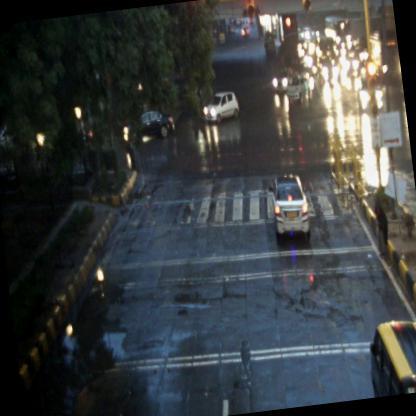bus: (370, 29, 402, 84), (326, 15, 348, 43)
car: (364, 316, 415, 397), (266, 171, 312, 246), (117, 108, 176, 146), (200, 90, 241, 126), (284, 77, 312, 103)
